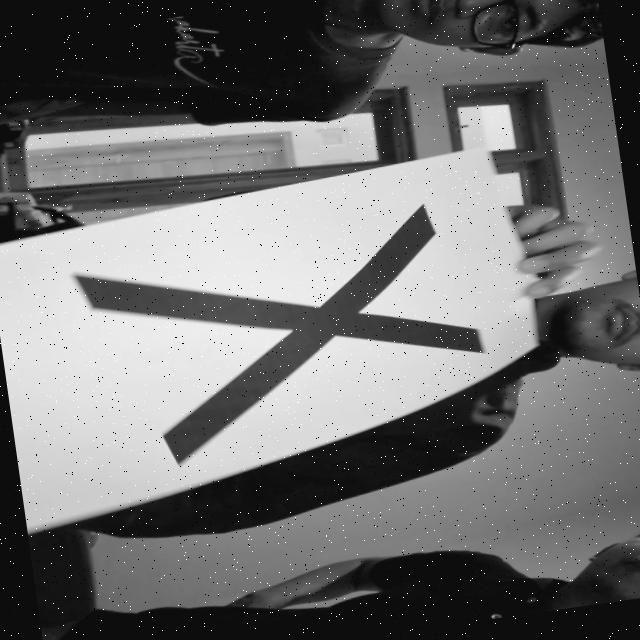x: (59, 181, 515, 494)
